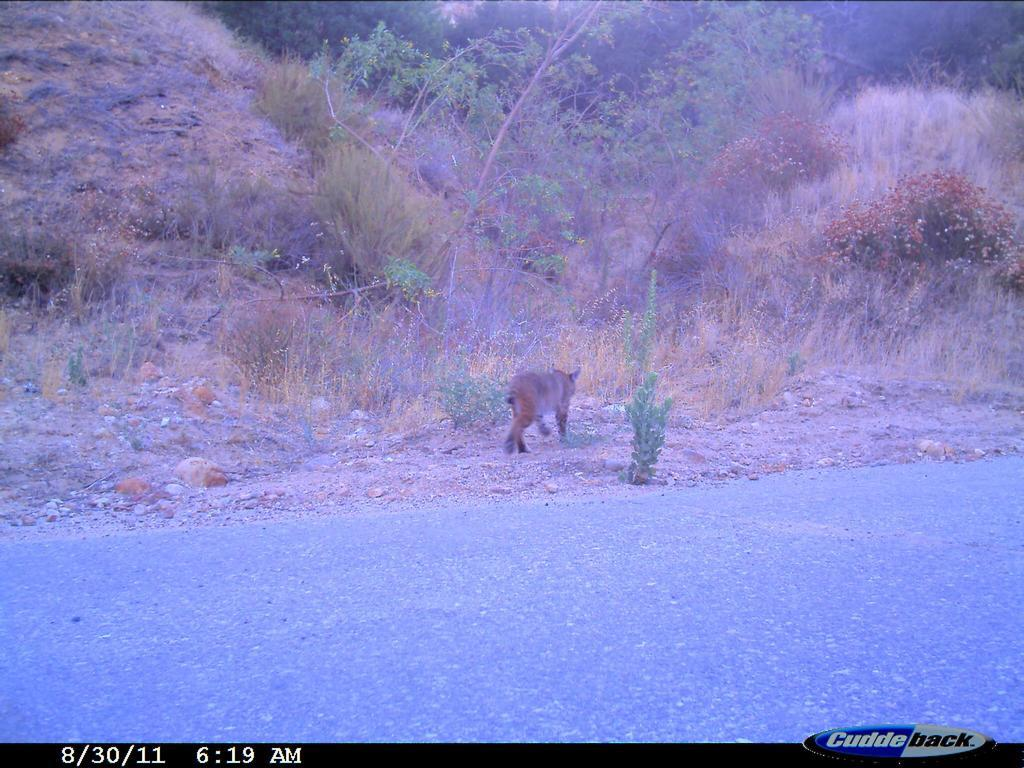bobcat: (497, 356, 589, 459)
